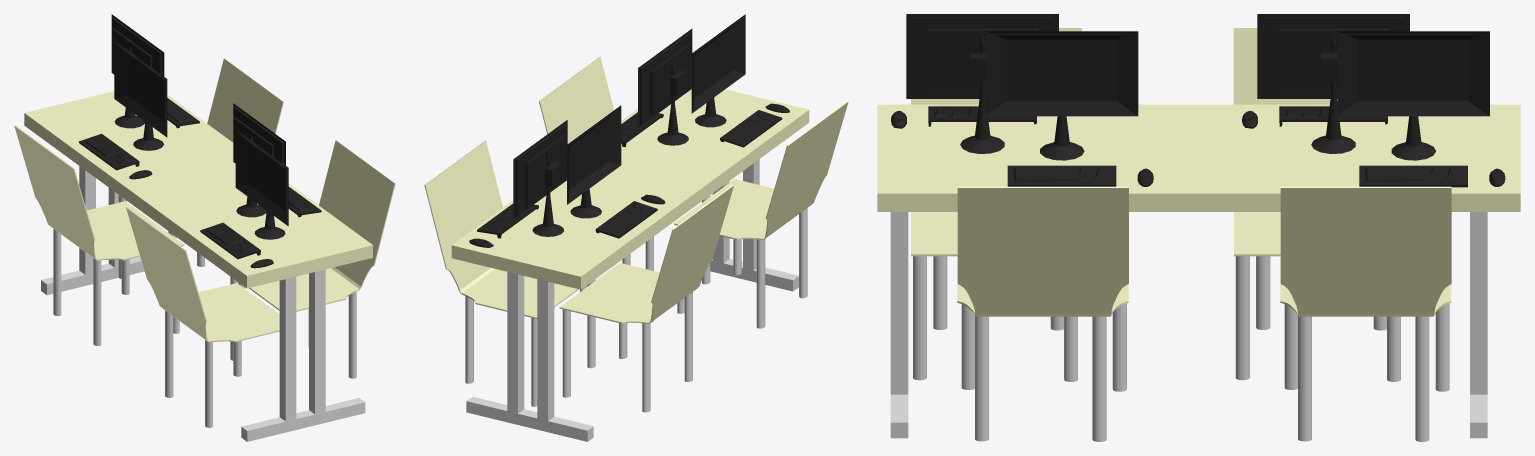
The picture shows the model from 3 angles, left to right: view 1: azimuth 30°, elevation 25°; view 2: azimuth 150°, elevation 25°; view 3: azimuth 270°, elevation 25°; orthographic projection. The views are drawn at different scales.
Parts seen in each view (by area): view 1: Cube.004; view 2: Cube.004; view 3: Cube.004.
Boxes of the visible parts, box(x1,y1,x2,y2) form: Cube.004: box(14, 14, 395, 441); Cube.004: box(424, 14, 848, 441); Cube.004: box(877, 14, 1520, 441).
Size of the model in its own units: 417 by 455 by 709.
